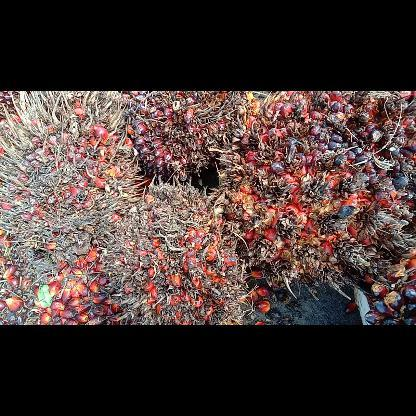Terlalu masak: (217, 90, 415, 302), (0, 90, 150, 264), (102, 174, 252, 324), (126, 91, 262, 187)
